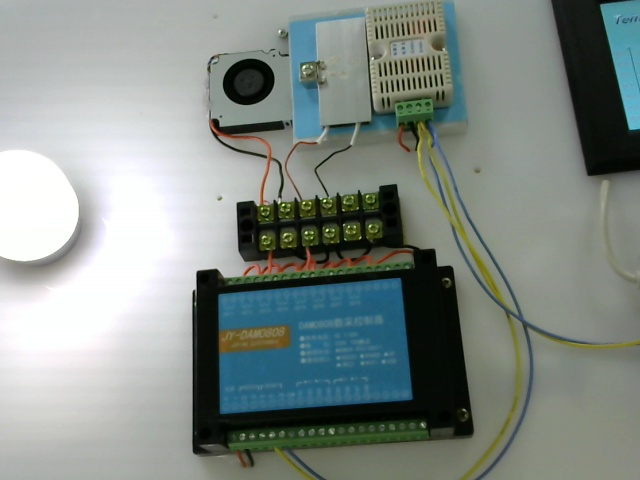fan: (206, 45, 285, 143)
heater: (306, 13, 377, 138)
relay: (182, 261, 479, 459)
termperature: (365, 4, 469, 123)
